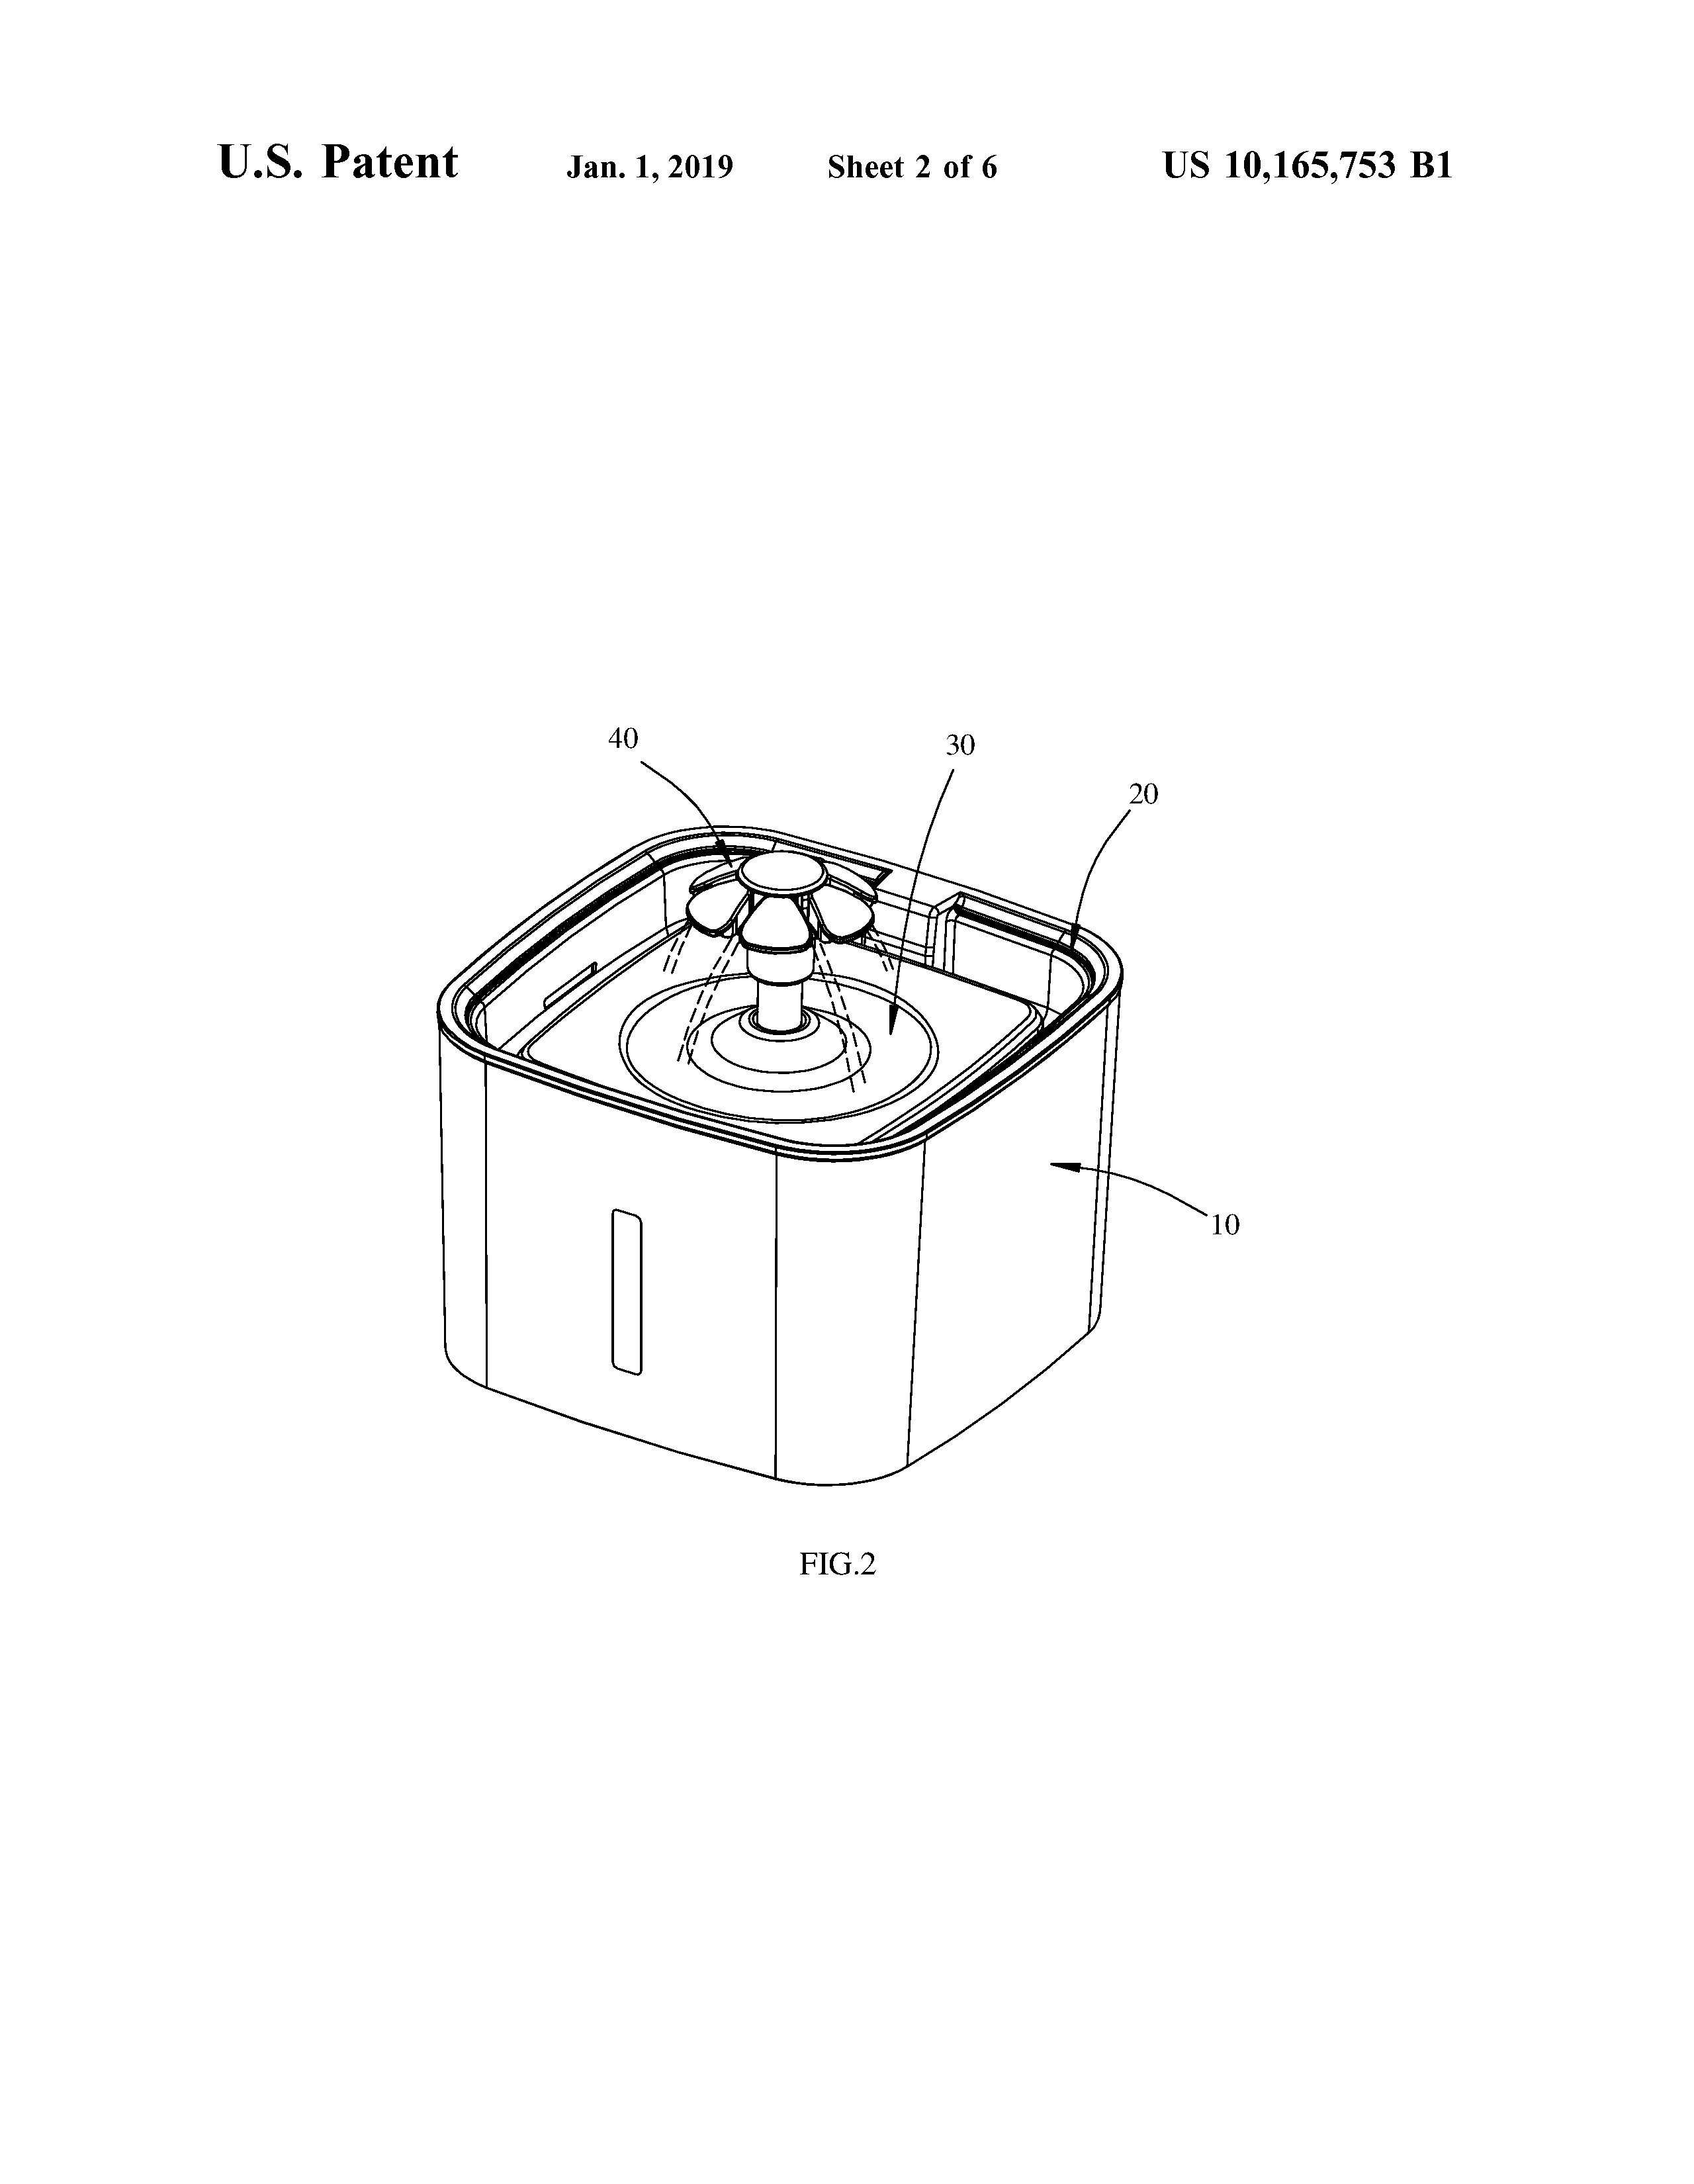patent image: (310, 656, 1306, 1646)
